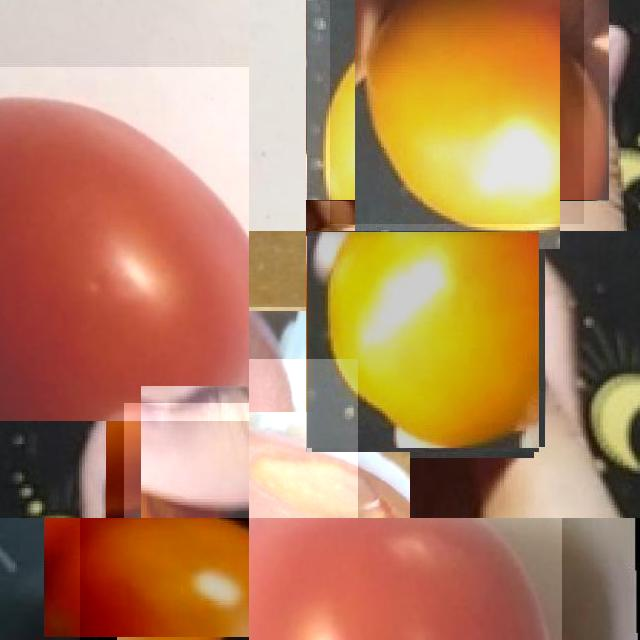0: (80, 518, 249, 640)
Fresh Tomato: (0, 67, 249, 421), (330, 0, 584, 224), (306, 231, 539, 452), (249, 518, 562, 640)
Rotten Tomato: (249, 359, 358, 518), (123, 403, 249, 518)
